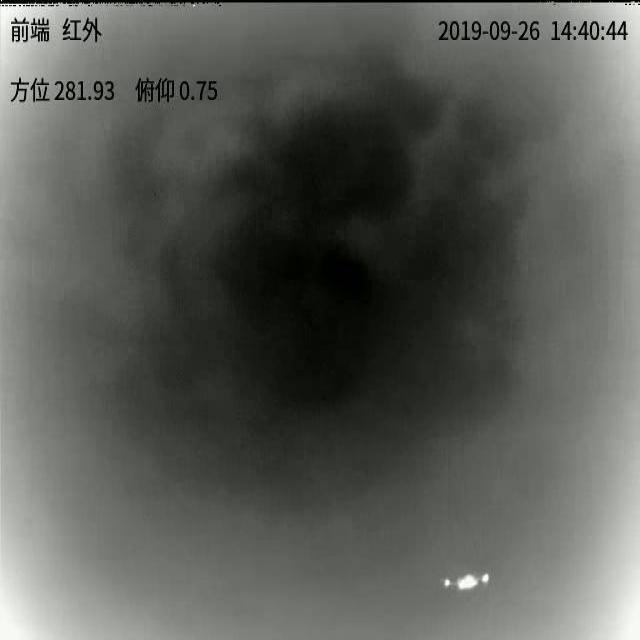drone: (443, 573, 490, 591)
